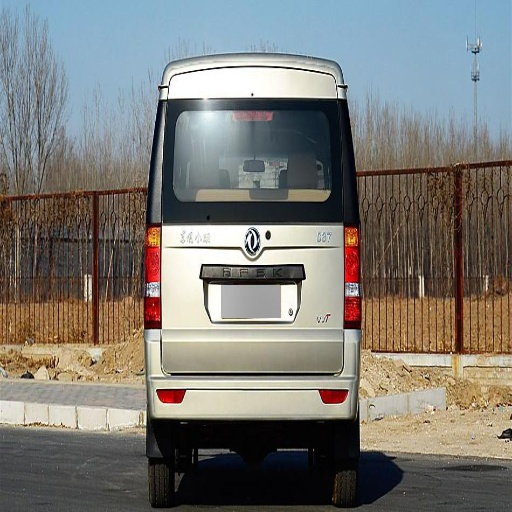back_bumper: (150, 369, 355, 426)
tailgate: (157, 194, 338, 323)
trunk: (155, 227, 352, 386)
